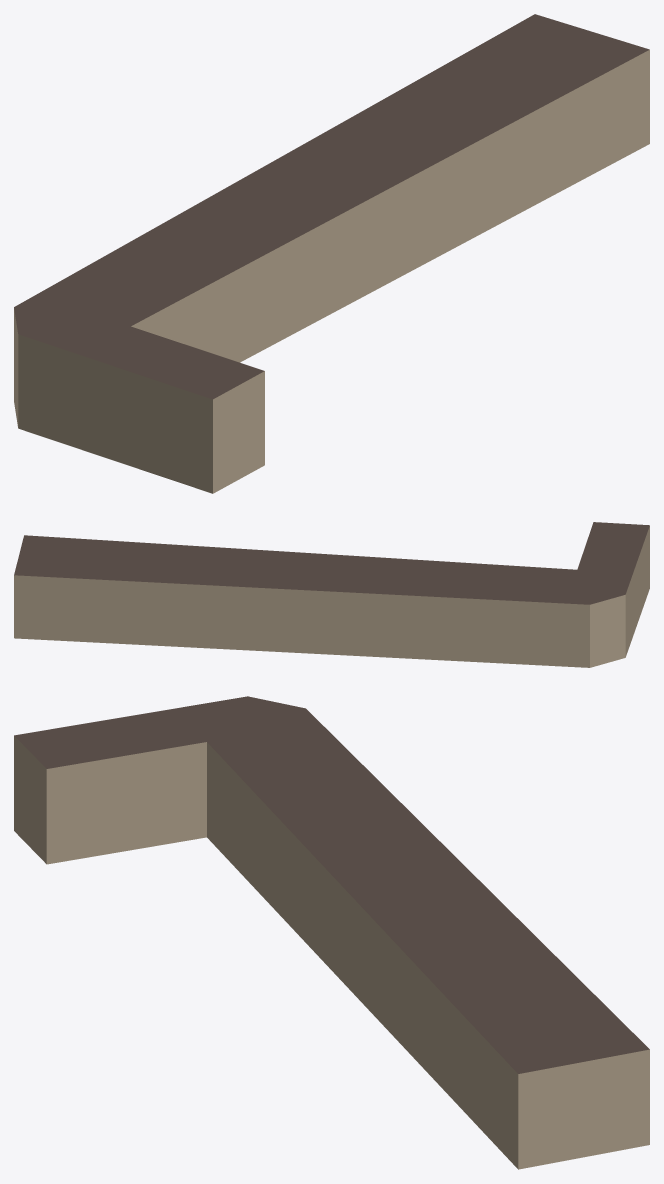
3 renders of one model, top to bottom at view 1: azimuth 30°, elevation 25°; view 2: azimuth 150°, elevation 25°; view 3: azimuth 270°, elevation 25°, orthographic. The views are drawn at different scales.
Visible parts, largest first — view 1: HP-w859086177; view 2: HP-w859086177; view 3: HP-w859086177.
Part boxes in pixels (x1,y1,x2,y2): HP-w859086177: (14,14,649,493); HP-w859086177: (14,522,649,667); HP-w859086177: (14,696,649,1169).
Bounding box in the file's own units: 76.38 × 9 × 54.34.
